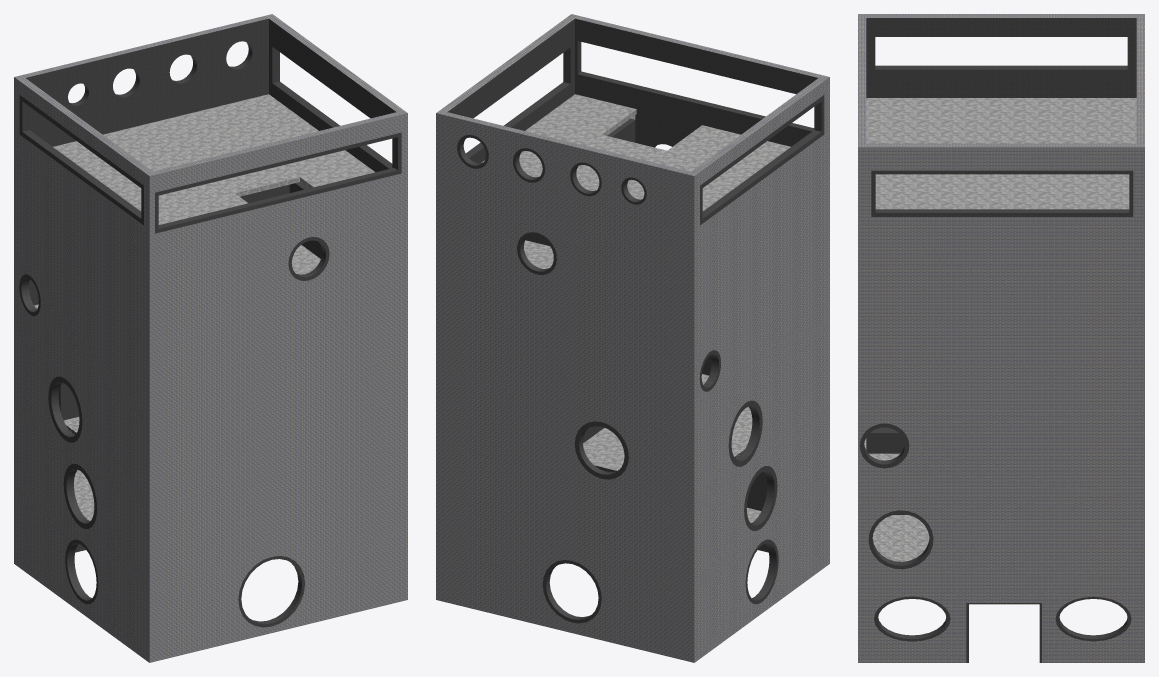
3 renders of one model, left to right at view 1: azimuth 30°, elevation 25°; view 2: azimuth 150°, elevation 25°; view 3: azimuth 270°, elevation 25°, orthographic. The views are drawn at different scales.
Parts seen in each view (by area): view 1: SketchUp_001, SketchUp, SketchUp_041, SketchUp_051, SketchUp_052, SketchUp_053, SketchUp_054, SketchUp_008, SketchUp_017, SketchUp_029, SketchUp_033; view 2: SketchUp_001, SketchUp, SketchUp_041, SketchUp_055, SketchUp_052, SketchUp_053, SketchUp_054, SketchUp_030, SketchUp_006, SketchUp_033, SketchUp_029, SketchUp_020; view 3: SketchUp_001, SketchUp_041, SketchUp, SketchUp_050, SketchUp_017, SketchUp_053, SketchUp_033, SketchUp_054, SketchUp_015, SketchUp_002, SketchUp_024, SketchUp_003.
Part boxes in pixels (left/top/right/bottom): SketchUp_001: left=14, top=14, right=407, bottom=662; SketchUp: left=26, top=18, right=397, bottom=552; SketchUp_041: left=53, top=94, right=374, bottom=224; SketchUp_051: left=155, top=132, right=401, bottom=233; SketchUp_052: left=19, top=95, right=143, bottom=225; SketchUp_053: left=22, top=101, right=141, bottom=218; SketchUp_054: left=272, top=47, right=392, bottom=168; SketchUp_008: left=238, top=556, right=304, bottom=627; SketchUp_017: left=74, top=470, right=94, bottom=520; SketchUp_029: left=48, top=376, right=82, bottom=442; SketchUp_033: left=291, top=245, right=320, bottom=274; SketchUp_001: left=436, top=14, right=829, bottom=662; SketchUp: left=447, top=18, right=817, bottom=552; SketchUp_041: left=481, top=94, right=790, bottom=211; SketchUp_055: left=583, top=407, right=752, bottom=470; SketchUp_052: left=700, top=95, right=824, bottom=225; SketchUp_053: left=702, top=101, right=821, bottom=218; SketchUp_054: left=466, top=47, right=570, bottom=157; SketchUp_030: left=574, top=421, right=628, bottom=479; SketchUp_006: left=542, top=560, right=601, bottom=623; SketchUp_033: left=524, top=240, right=553, bottom=268; SketchUp_029: left=728, top=400, right=762, bottom=466; SketchUp_020: left=744, top=466, right=777, bottom=530; SketchUp_001: left=858, top=14, right=1144, bottom=662; SketchUp_041: left=866, top=98, right=1136, bottom=209; SketchUp: left=864, top=18, right=1136, bottom=662; SketchUp_050: left=871, top=170, right=1133, bottom=216; SketchUp_017: left=872, top=515, right=929, bottom=561; SketchUp_053: left=875, top=65, right=1127, bottom=69; SketchUp_033: left=875, top=174, right=939, bottom=191; SketchUp_054: left=875, top=209, right=1129, bottom=212; SketchUp_015: left=868, top=510, right=933, bottom=569; SketchUp_002: left=874, top=596, right=950, bottom=641; SketchUp_024: left=859, top=423, right=909, bottom=468; SketchUp_003: left=1055, top=596, right=1131, bottom=641.
Size of the model in its own units: 15.89 by 14.43 by 28.61.
Materials: 4 (3 with a texture image).
